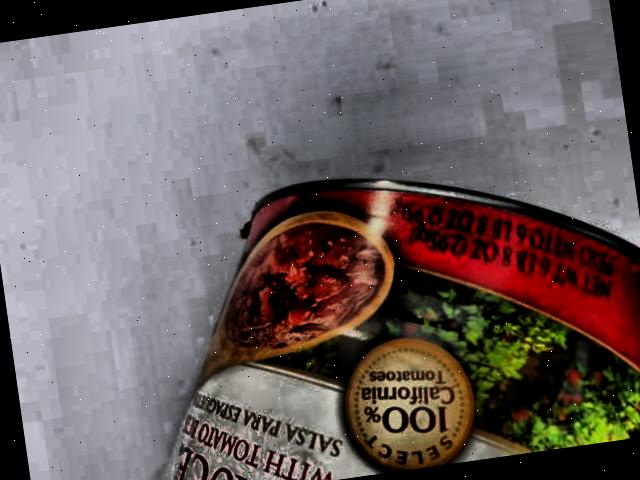Almennt: (91, 124, 640, 480)
